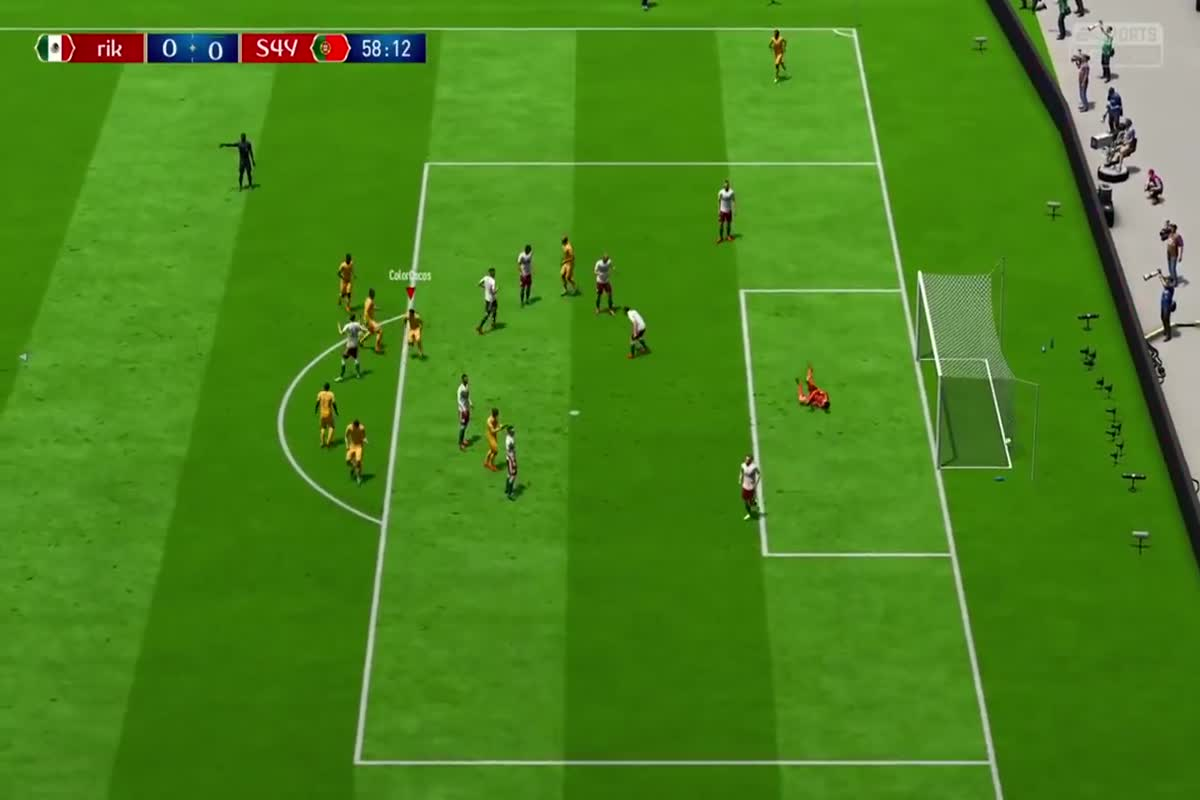ball: (1003, 432, 1021, 450)
